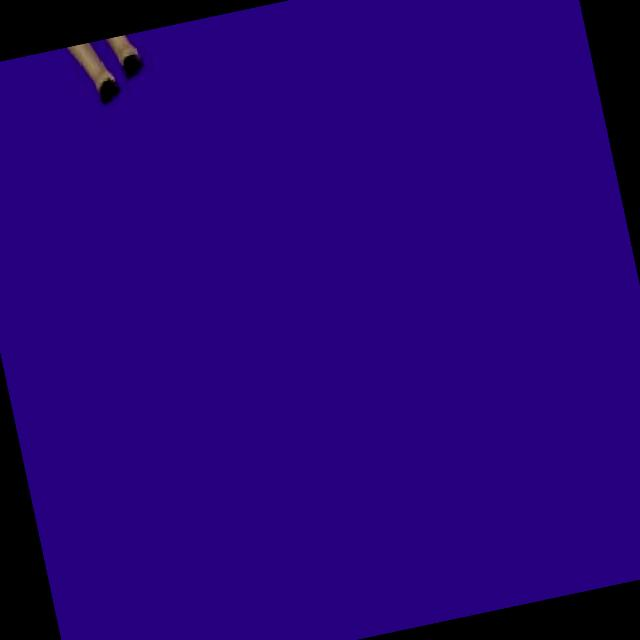Person: (60, 30, 156, 116)
